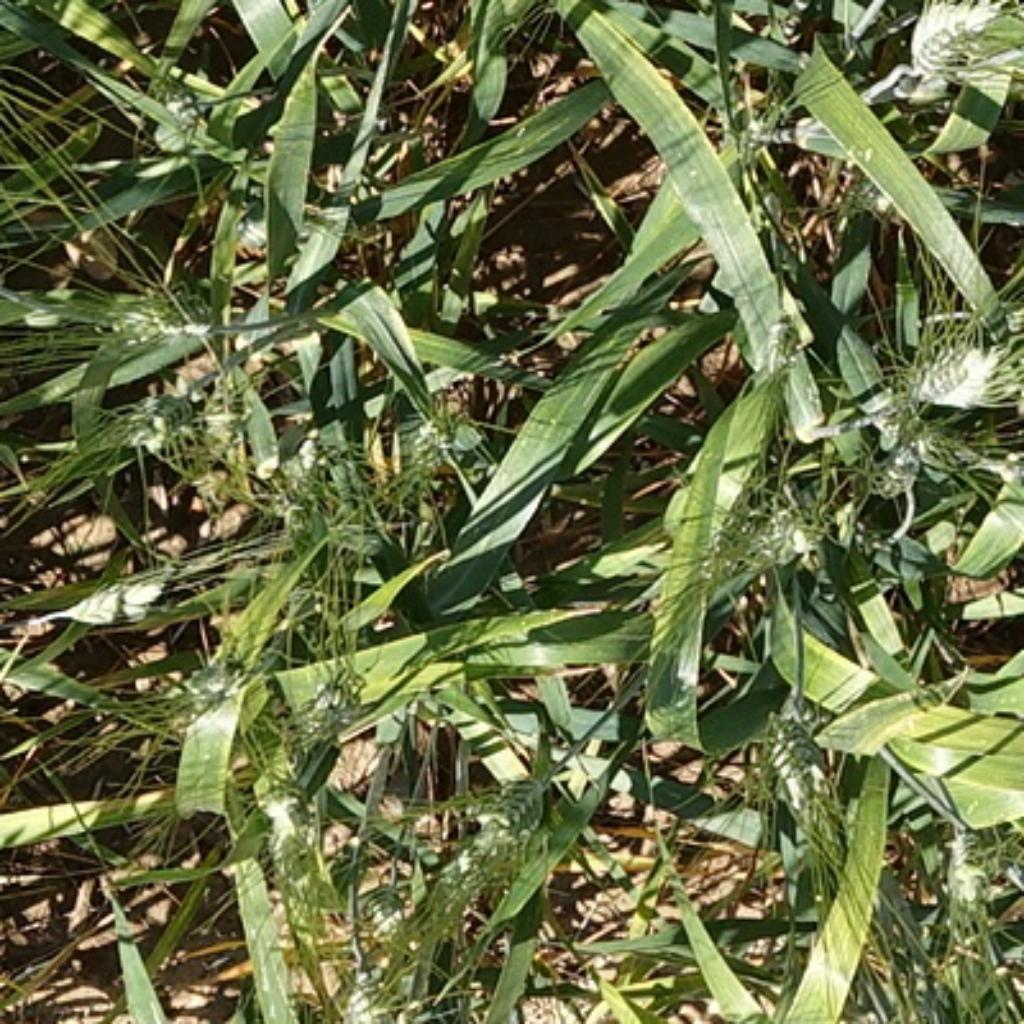0-0: (250, 419, 381, 558), (253, 762, 355, 934), (734, 686, 847, 839), (94, 368, 255, 468), (437, 780, 557, 904), (366, 371, 483, 496), (908, 801, 1003, 949), (852, 399, 966, 499), (741, 477, 850, 581), (94, 278, 227, 360), (335, 857, 432, 957), (888, 325, 1006, 407), (279, 645, 368, 744), (135, 71, 220, 169), (148, 645, 245, 727), (895, 0, 997, 74), (320, 967, 412, 1024), (755, 309, 806, 394)
